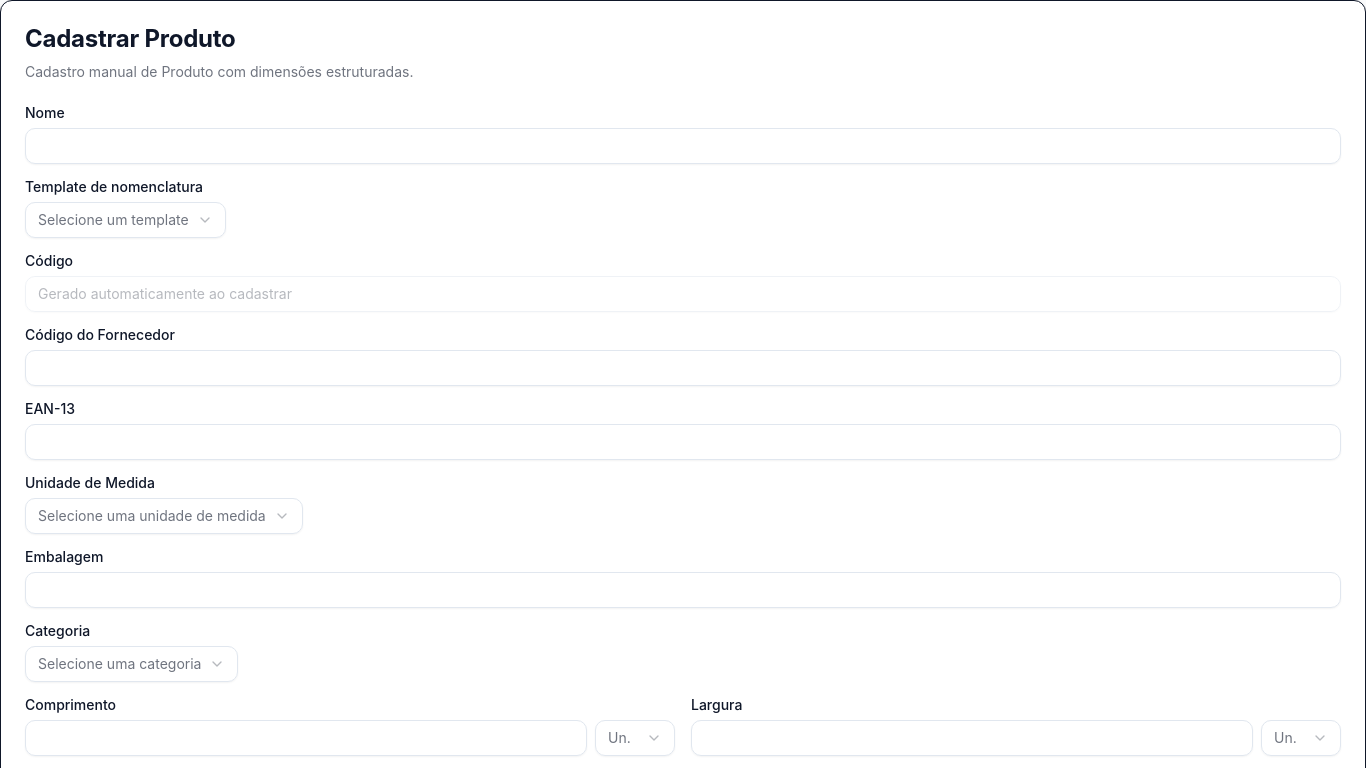
CadastroProdutoSection › carrega templates de nomenclatura no mount e popula o select, sem a opção "nome livre"
This screenshot has width=1366, height=768.
Step 1. Click the dropdown named "Template de nomenclatura" → (125,220), box x1=25 y1=202 x2=226 y2=238
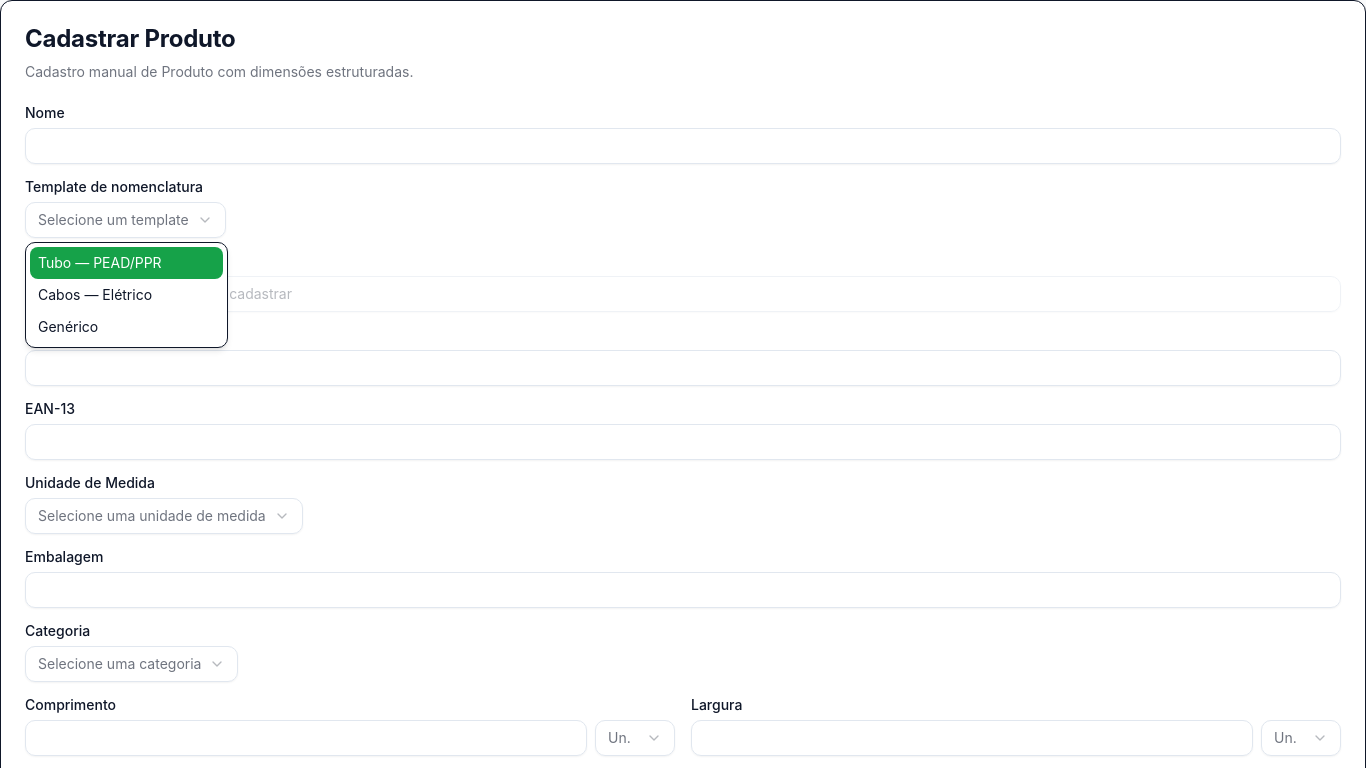
Now the option "Tubo — PEAD/PPR" is shown, box x1=30 y1=247 x2=223 y2=279
Now the option "Cabos — Elétrico" is shown, box x1=38 y1=286 x2=152 y2=303
Now the option "Genérico" is shown, box x1=38 y1=318 x2=98 y2=335
